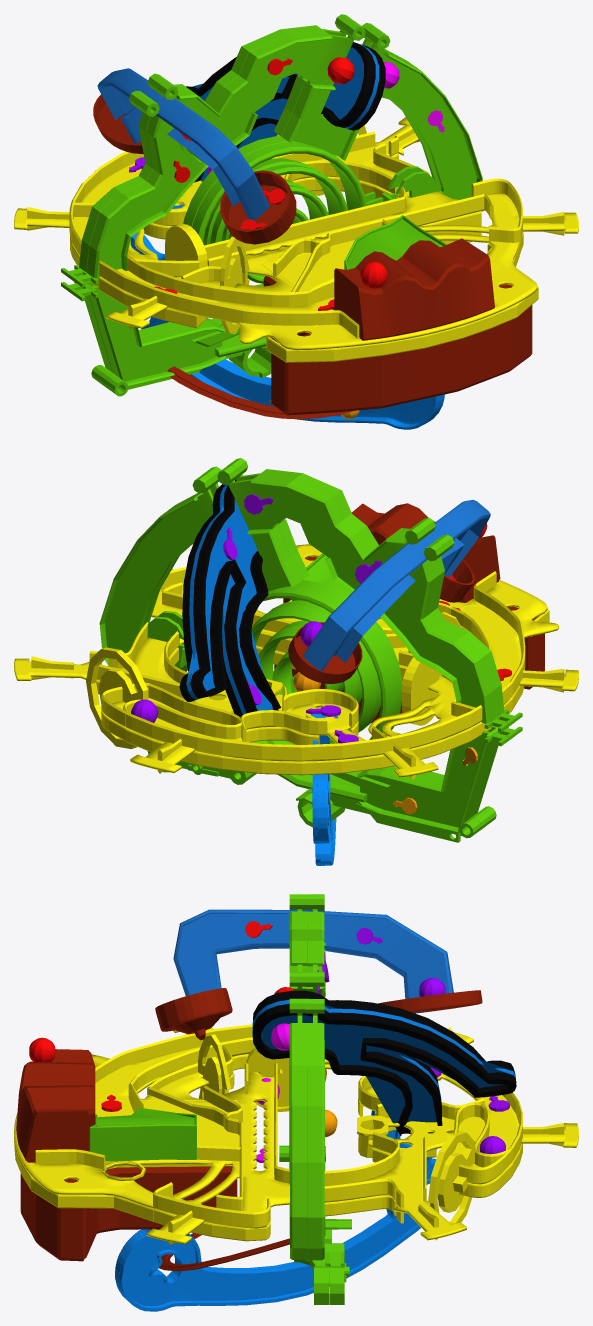
Rendered from Maze_Ball_Test_2.0.fbx.
3 views of the same model, one above another, from view 1: azimuth 30°, elevation 25°; view 2: azimuth 150°, elevation 25°; view 3: azimuth 270°, elevation 25° (orthographic).
Parts seen in each view (by area): view 1: _Mesh, polySurface3, Back_Red_Part, Start_Red_Part, pCube5, svgMesh2, _group1贝塞尔圇, _group1平面圆环., pCube7, _group1圆环.010, object 41, pSphere1 (+1 smaller); view 2: _Mesh, polySurface3, svgMesh2, pCube5, Start_Red_Part, _group1贝塞尔圇, object 41, Back_Red_Part, _group1平面圆环., pCube7; view 3: polySurface3, svgMesh2, _Mesh, _group1贝塞尔圇, pCube5, Start_Red_Part, Back_Red_Part, pCube7, _group1平面圆环., object 41, _group1圆环.010, polySurface2 (+1 smaller).
Part boxes in pixels (x1,y1,x2,y2): _Mesh: (61,14,482,396); polySurface3: (14,117,578,362); Back_Red_Part: (263,276,532,415); Start_Red_Part: (334,238,494,340); pCube5: (97,68,269,220); svgMesh2: (186,42,385,182); _group1贝塞尔圇: (130,204,444,429); _group1平面圆环.: (220,170,296,244); pCube7: (344,215,446,269); _group1圆环.010: (167,366,355,419); object 41: (93,94,143,153); pSphere1: (360,261,387,288); _Mesh: (99,458,522,842); polySurface3: (14,544,578,779); svgMesh2: (179,479,280,717); pCube5: (303,499,490,670); Start_Red_Part: (351,503,500,602); _group1贝塞尔圇: (310,714,338,865); object 41: (288,622,362,683); Back_Red_Part: (274,556,544,722); _group1平面圆环.: (439,559,474,602); pCube7: (290,553,381,619); polySurface3: (14,1024,578,1244); svgMesh2: (252,990,516,1135); _Mesh: (279,894,351,1304); _group1贝塞尔圇: (115,1110,436,1311); pCube5: (173,909,453,1013); Start_Red_Part: (16,1049,95,1162); Back_Red_Part: (20,1162,237,1261); pCube7: (89,1107,196,1161); _group1平面圆环.: (155,988,232,1040); object 41: (378,990,482,1013); _group1圆环.010: (159,1233,289,1271); polySurface2: (197,1145,240,1161).
Bounding box in the file's own units: 24.97 × 19.06 × 26.62.
